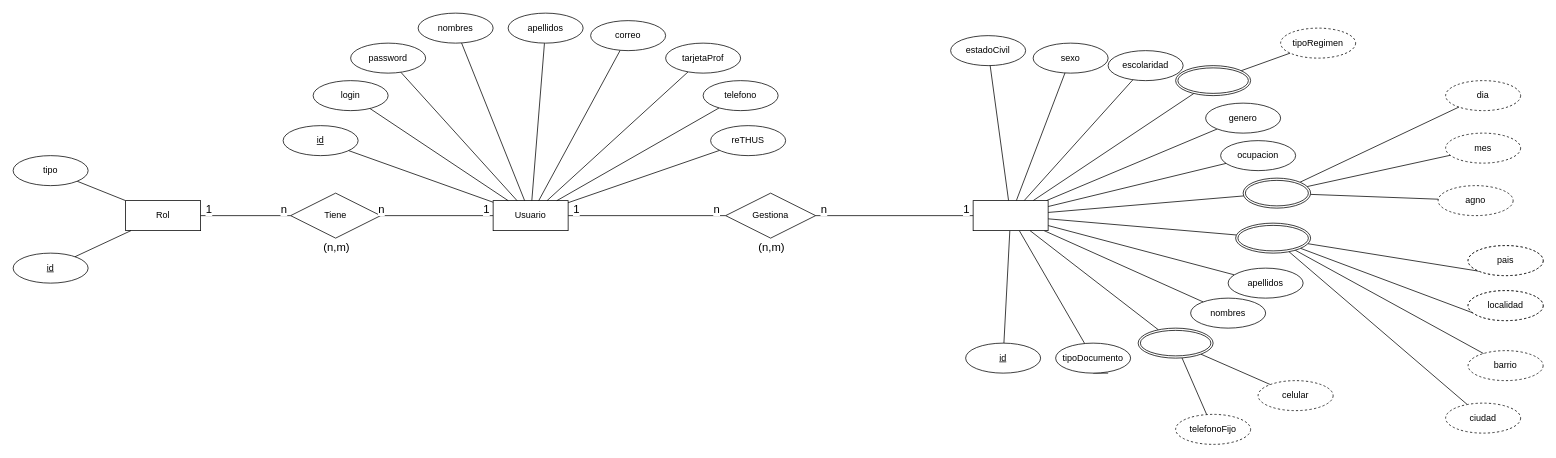
This 1556x458 diagram has some shape labels left out. Here are the shapes that lost their labels. From the top down, the centre of each, then its label:
At point (1213, 80): "eps".
At point (1276, 192): "fechaNacimiento".
At point (1010, 215): "Consultante".
At point (1273, 237): "direccion".
At point (1175, 342): "numeroContacto".
